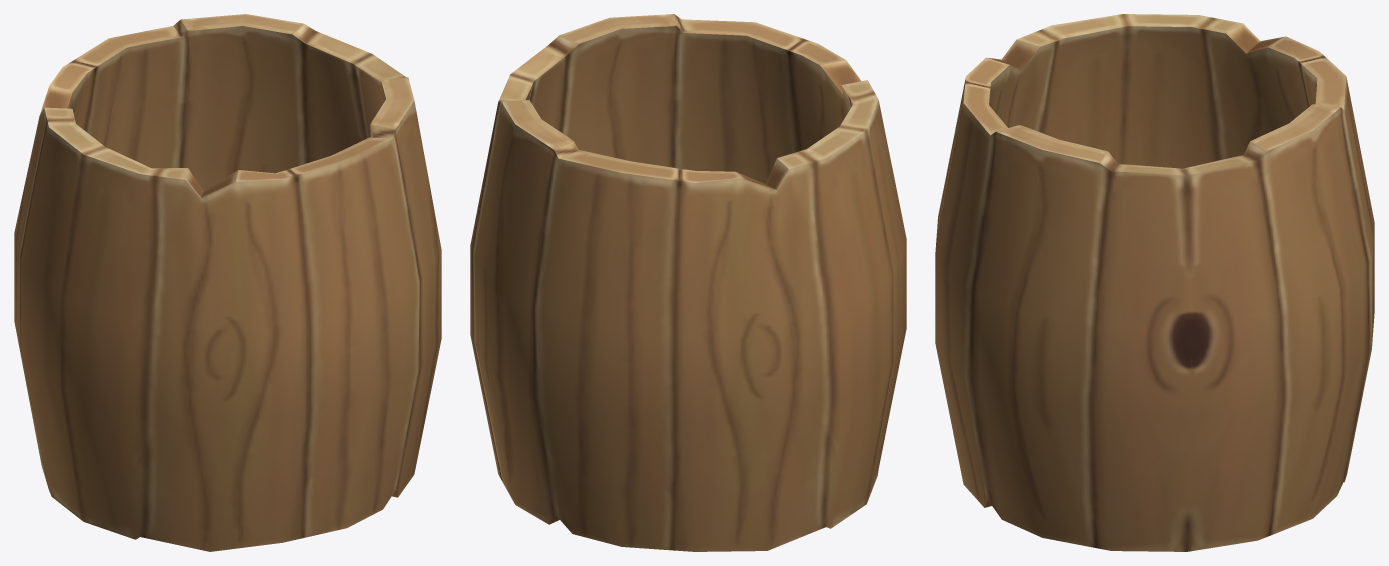
The model's file is barrel.glb.
3 renders of one model, left to right at view 1: azimuth 30°, elevation 25°; view 2: azimuth 150°, elevation 25°; view 3: azimuth 270°, elevation 25°, orthographic. The views are drawn at different scales.
Visible parts, largest first — view 1: Object_112.001; view 2: Object_112.001; view 3: Object_112.001.
Boxes of the visible parts, left/top/right/bottom form: Object_112.001: left=14, top=14, right=441, bottom=551; Object_112.001: left=470, top=14, right=906, bottom=551; Object_112.001: left=935, top=14, right=1374, bottom=551.
Size of the model in its own units: 0.7756 by 0.7685 by 0.7756.
1 material, 1 textured.
